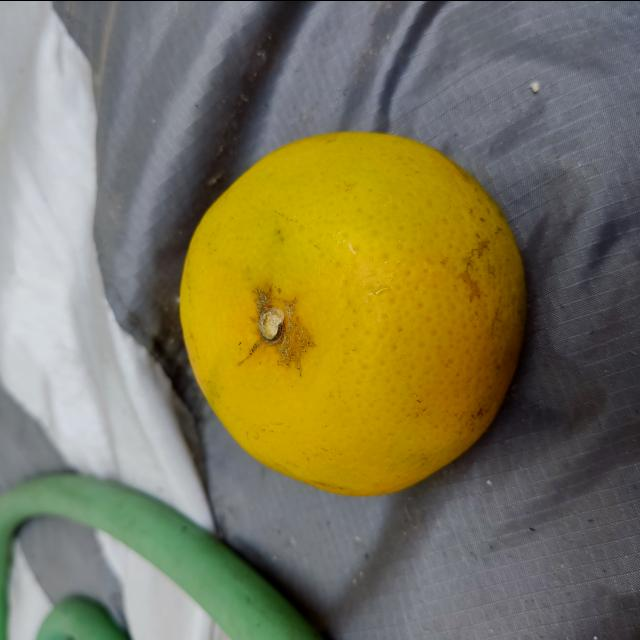orange: (176, 121, 534, 499)
